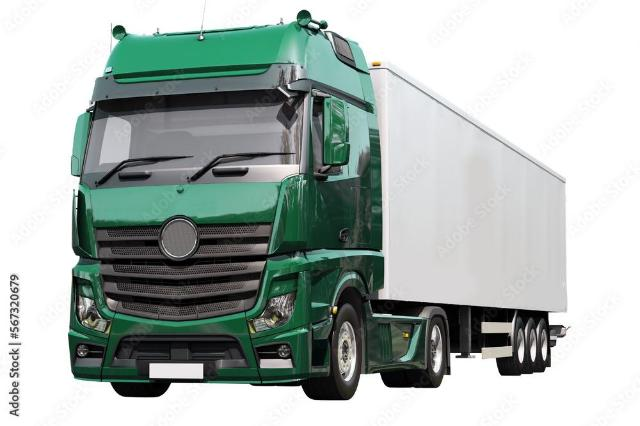truck: (38, 21, 585, 398)
